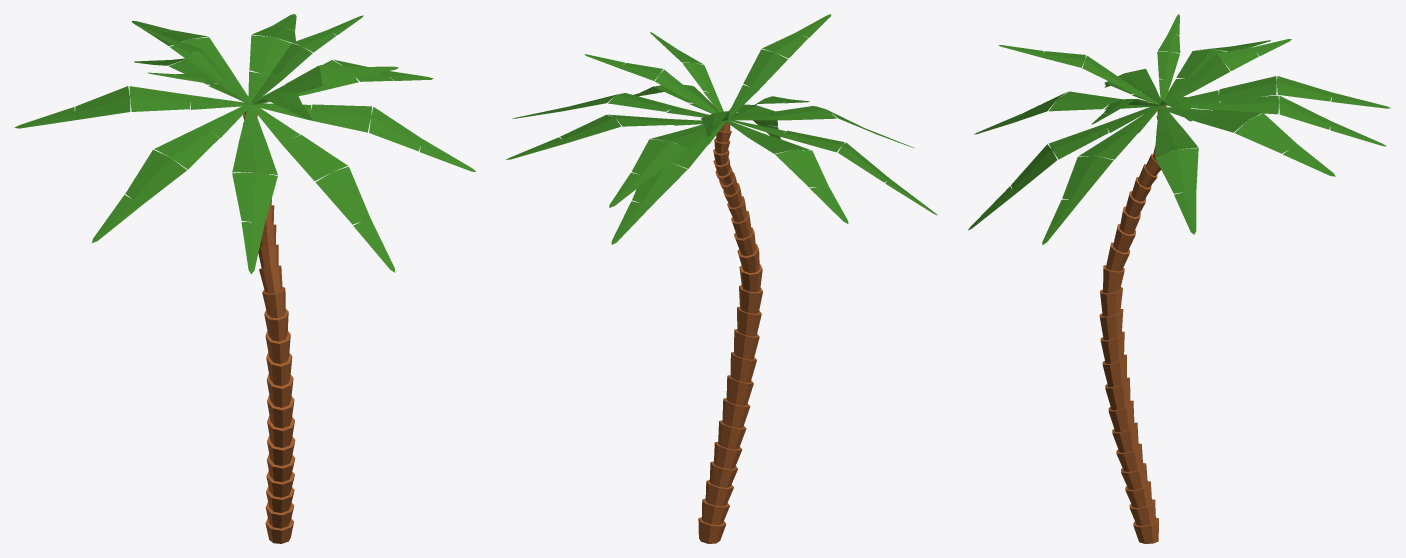
File: Palm_Tree.fbx
3 views of the same model, side by side, from view 1: azimuth 30°, elevation 25°; view 2: azimuth 150°, elevation 25°; view 3: azimuth 270°, elevation 25° (orthographic). The views are drawn at different scales.
Parts seen in each view (by area): view 1: Cube; view 2: Cube; view 3: Cube.
Part boxes in pixels (box(x1,y1,x2,y2)): Cube: box(14, 14, 475, 543); Cube: box(506, 14, 937, 543); Cube: box(968, 14, 1391, 543).
Bounding box in the file's own units: 19.45 × 23.4 × 18.96.
